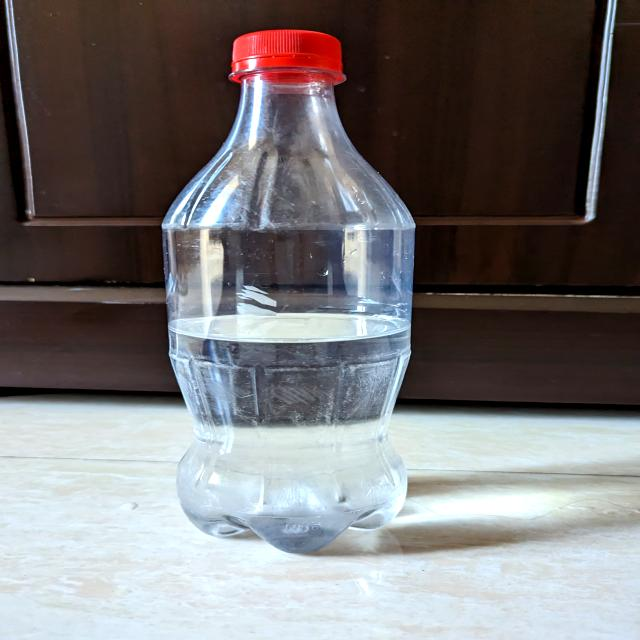half-bottle: (156, 24, 424, 557)
